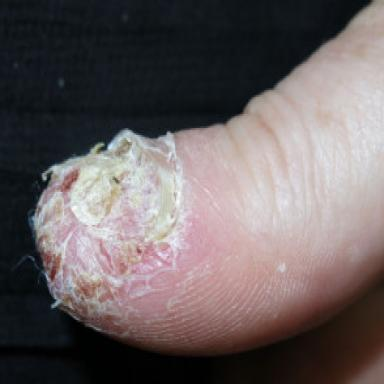eczema: (33, 130, 196, 333)
